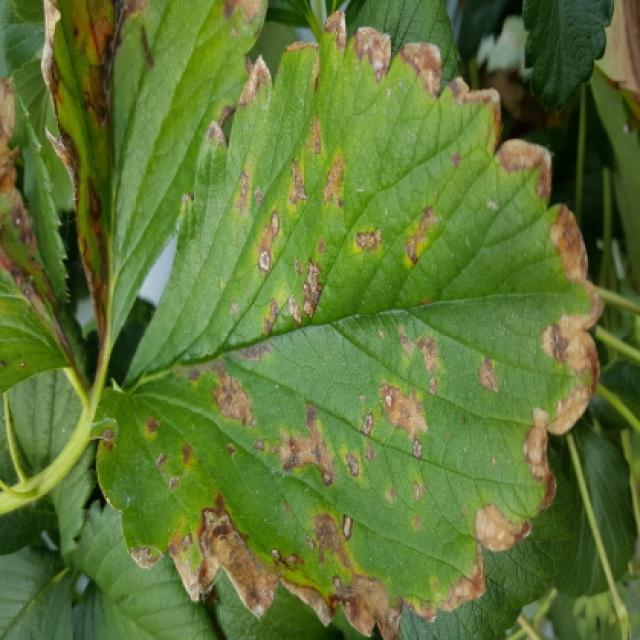Angular Leafspot: (91, 9, 607, 638), (42, 0, 269, 378), (0, 53, 88, 391)
